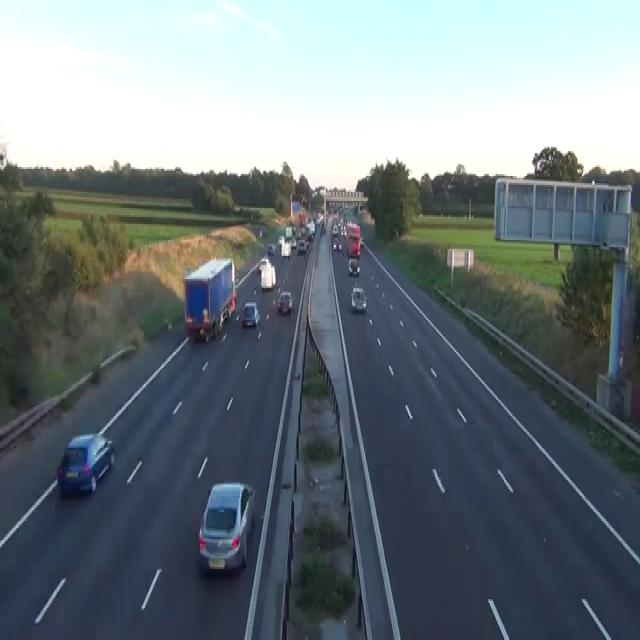Car: (198, 482, 255, 574), (56, 432, 115, 496), (242, 301, 260, 327), (350, 286, 367, 311), (277, 290, 293, 313), (347, 238, 360, 258), (348, 256, 360, 276), (257, 256, 270, 274), (347, 222, 360, 236), (297, 238, 307, 254), (281, 244, 290, 258), (332, 240, 341, 251), (232, 290, 236, 311), (267, 244, 275, 254), (290, 236, 296, 249), (331, 224, 338, 235), (257, 260, 262, 272), (278, 234, 284, 243), (359, 237, 364, 246), (291, 226, 296, 234), (259, 228, 262, 236)
Truck: (182, 256, 236, 341), (257, 256, 276, 290), (346, 222, 360, 258)
